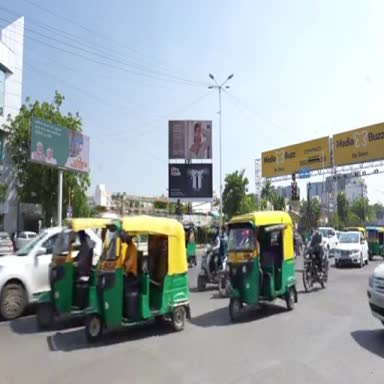Car: (0, 227, 69, 320), (334, 231, 368, 267), (368, 264, 383, 325), (319, 227, 338, 258), (14, 231, 37, 250), (0, 232, 13, 256), (293, 230, 302, 254), (336, 231, 341, 238)
